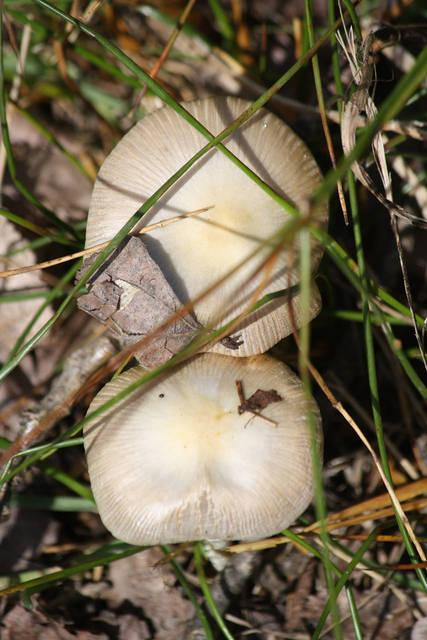Edible Mushroom: (76, 94, 330, 361), (81, 350, 324, 547)
